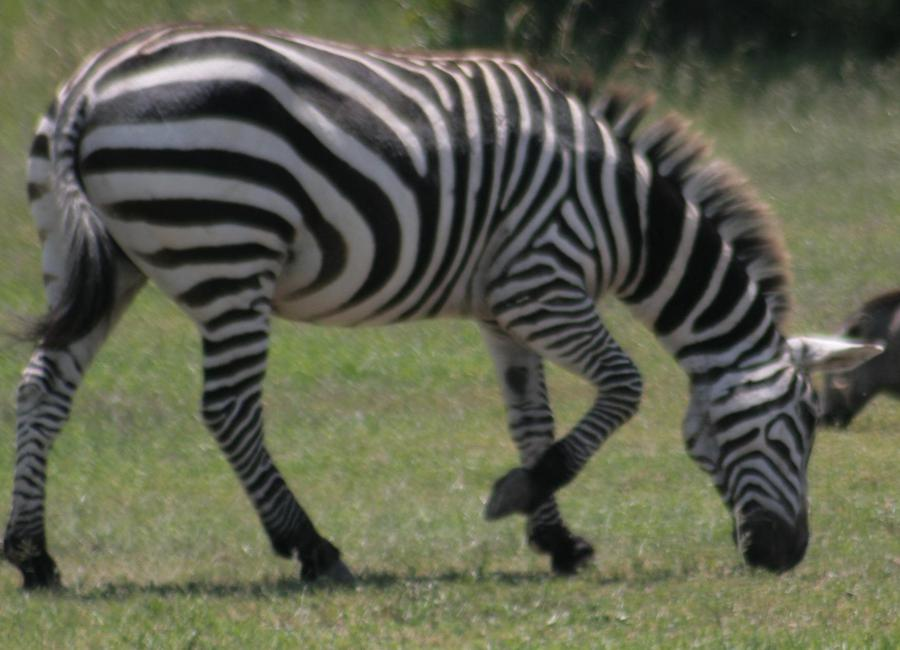zebra_plains: (114, 6, 595, 357)
